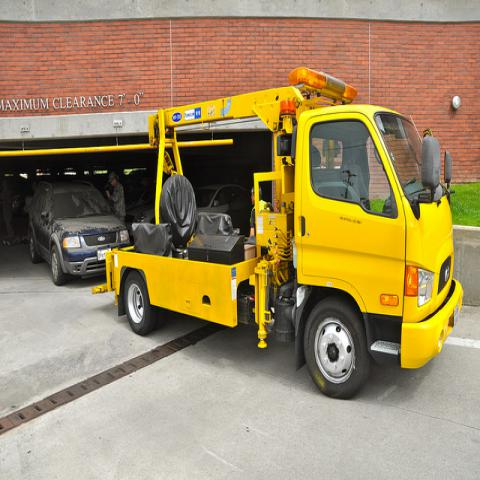car: (28, 179, 130, 285), (194, 182, 246, 215)
truck: (91, 63, 468, 401)
